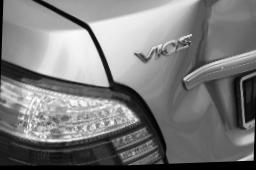Dickey: (44, 0, 256, 164)
